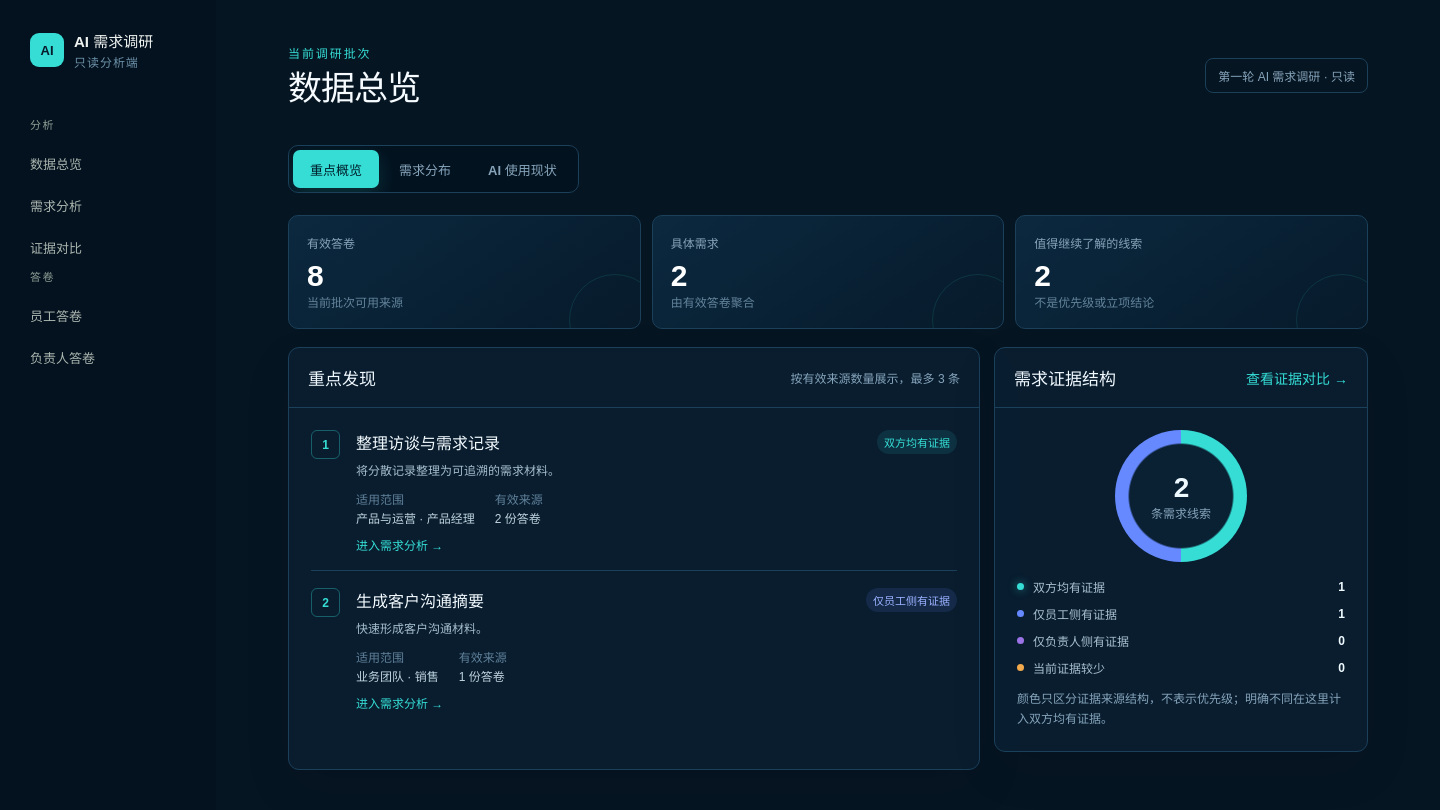
Test case: D1 AI 使用现状展示固定统计、员工画像和有效样本，不生成总分或缺失维度轮廓
Click the tab "AI 使用现状". click: (522, 169)
box: x1=471 y1=150 x2=574 y2=188
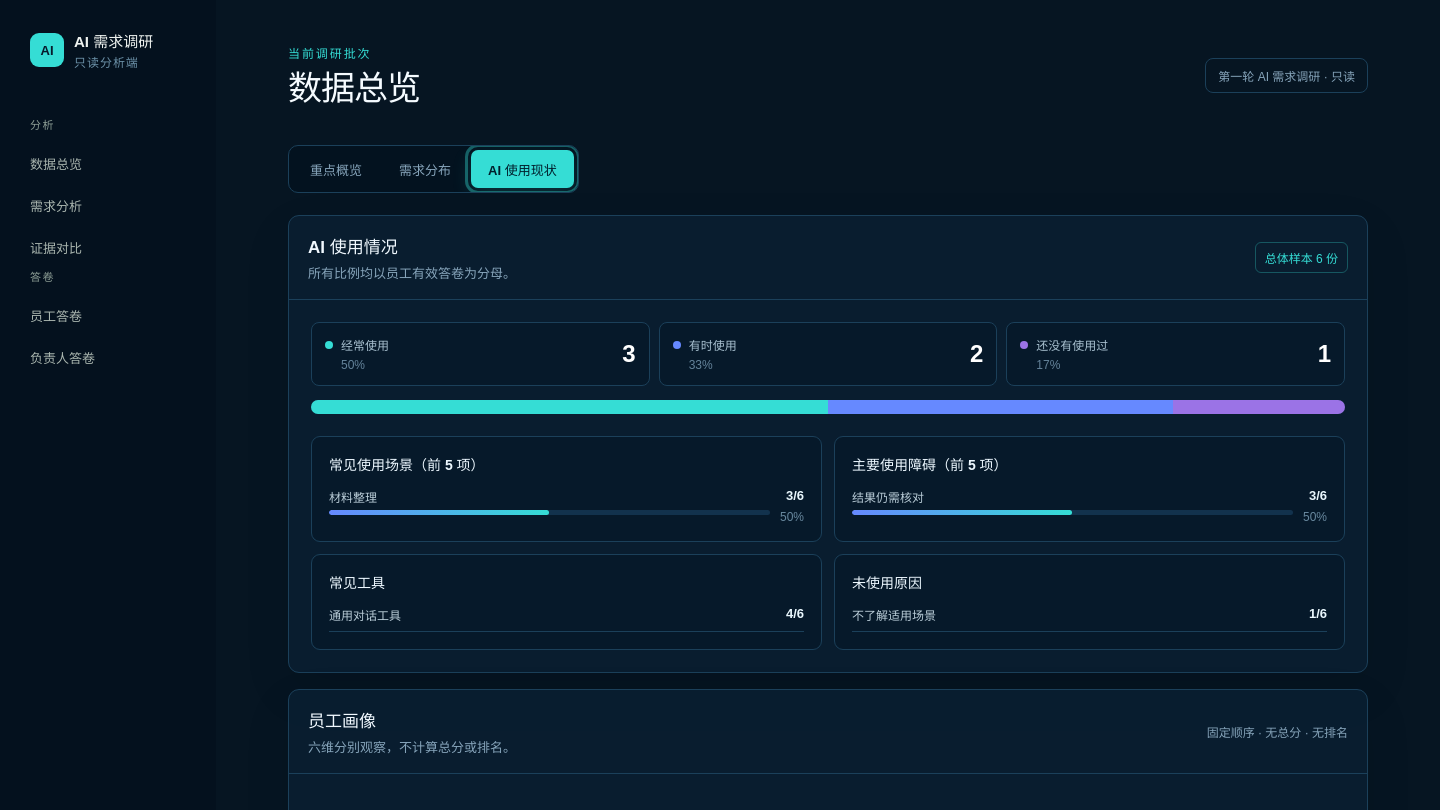
Expected: the heading "AI 使用情况" is shown, x1=308 y1=238 x2=398 y2=257
Expected: the heading "员工画像" is shown, x1=308 y1=712 x2=376 y2=731
Expected: the text "总体样本 6 份" is shown, x1=1255 y1=242 x2=1348 y2=273
